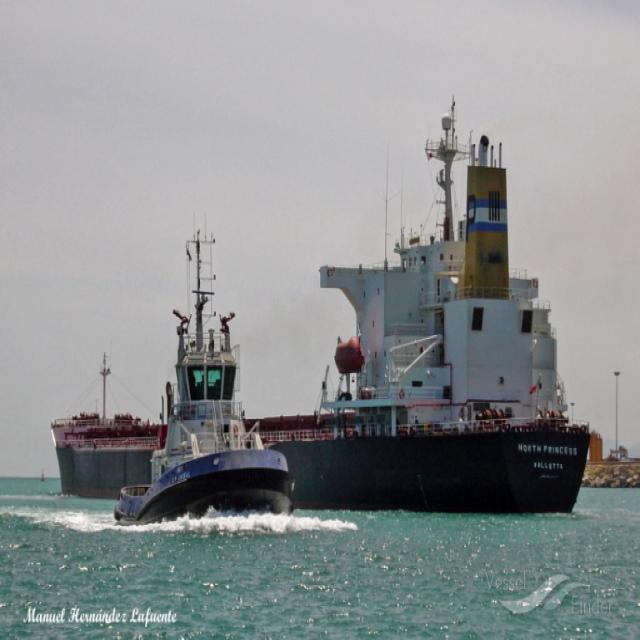OCR: (512, 437, 580, 477)
